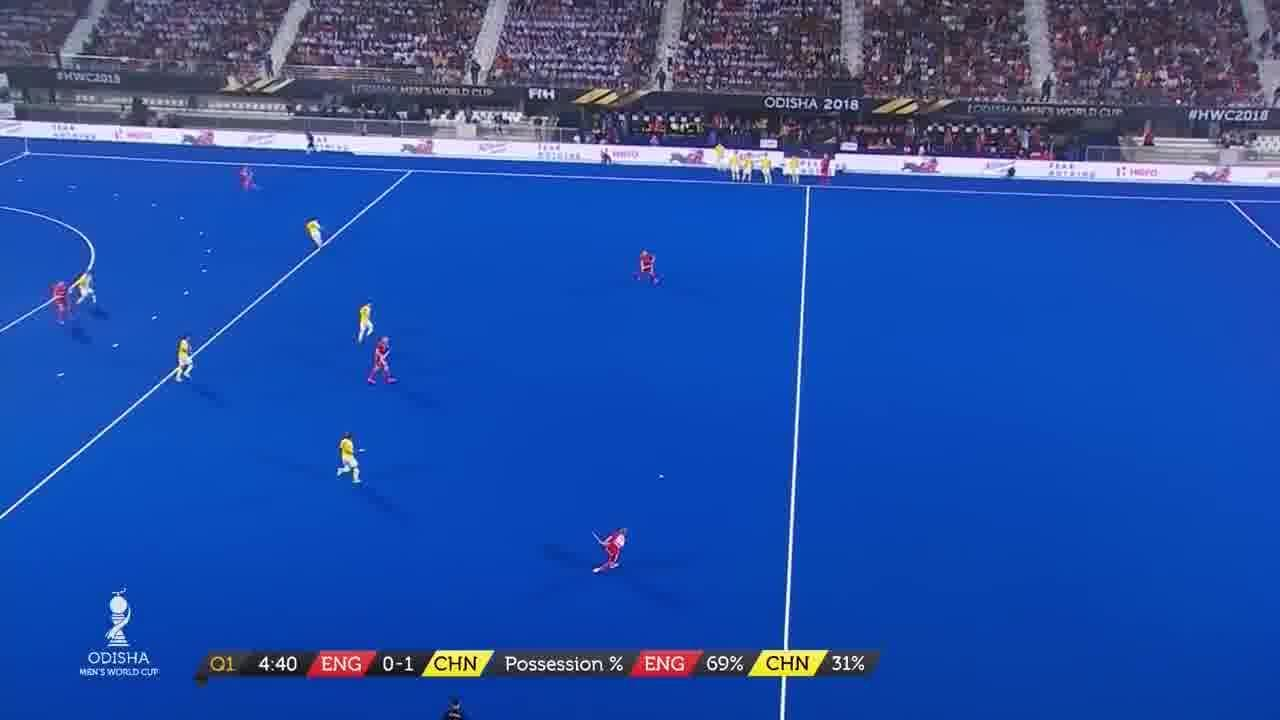ball: (653, 462, 679, 493)
